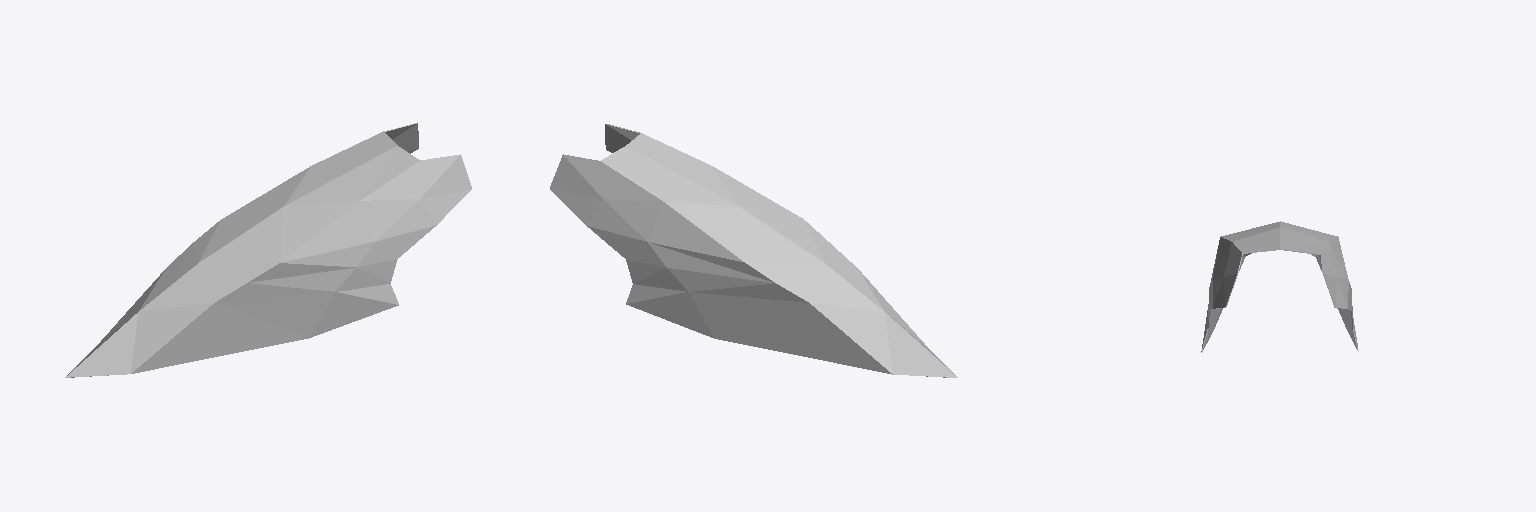
The model's file is glass.obj.
3 renders of one model, left to right at view 1: azimuth 30°, elevation 25°; view 2: azimuth 150°, elevation 25°; view 3: azimuth 270°, elevation 25°, orthographic.
Parts seen in each view (by area): view 1: AM_04_LP_Mesh.004; view 2: AM_04_LP_Mesh.004; view 3: AM_04_LP_Mesh.004.
Boxes of the visible parts, box(x1,y1,x2,y2) form: AM_04_LP_Mesh.004: box(65, 123, 471, 377); AM_04_LP_Mesh.004: box(550, 124, 957, 377); AM_04_LP_Mesh.004: box(1201, 221, 1358, 352).
Size of the model in its own units: 6.71 by 2.55 by 2.4.